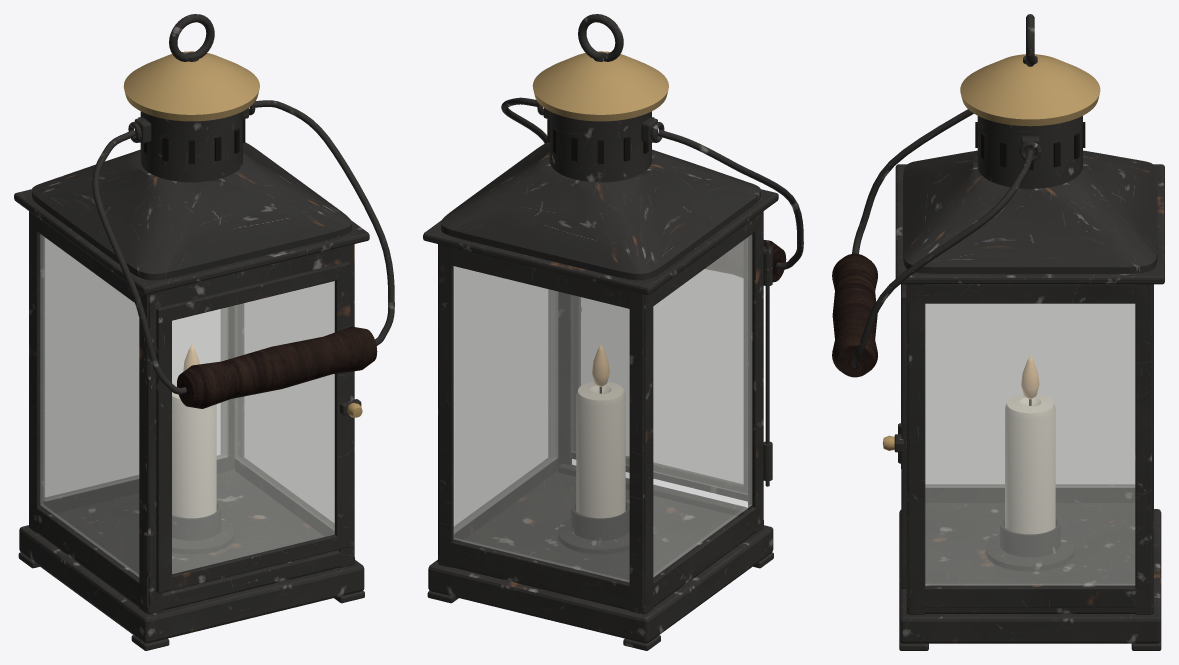
Rendered from lantern.fbx.
The picture shows the model from 3 angles, left to right: view 1: azimuth 30°, elevation 25°; view 2: azimuth 150°, elevation 25°; view 3: azimuth 270°, elevation 25°; orthographic projection. The views are drawn at different scales.
Visible parts, largest first — view 1: Lantern_Body, Lantern_Door, Lantern_Glass, Lantern_Grip, Lantern_Candle; view 2: Lantern_Body, Lantern_Glass, Lantern_Door, Lantern_Candle, Lantern_Grip; view 3: Lantern_Body, Lantern_Glass, Lantern_Candle, Lantern_Grip, Lantern_Door, Lantern_Flame.
Part boxes in pixels (bbox=[...]): Lantern_Body: bbox=[14, 14, 394, 650]; Lantern_Door: bbox=[144, 261, 362, 593]; Lantern_Glass: bbox=[40, 234, 334, 576]; Lantern_Grip: bbox=[177, 326, 377, 408]; Lantern_Candle: bbox=[172, 383, 234, 554]; Lantern_Body: bbox=[423, 14, 803, 650]; Lantern_Glass: bbox=[453, 234, 752, 581]; Lantern_Door: bbox=[572, 237, 772, 501]; Lantern_Candle: bbox=[558, 381, 629, 554]; Lantern_Grip: bbox=[705, 240, 786, 282]; Lantern_Body: bbox=[851, 14, 1164, 650]; Lantern_Glass: bbox=[925, 303, 1135, 585]; Lantern_Candle: bbox=[986, 394, 1074, 571]; Lantern_Grip: bbox=[832, 253, 877, 377]; Lantern_Door: bbox=[882, 284, 906, 588]; Lantern_Flame: bbox=[1021, 355, 1039, 399].
Bounding box in the file's own units: 16.18 × 34.69 × 18.05.
Materials: 7 (2 with a texture image).
